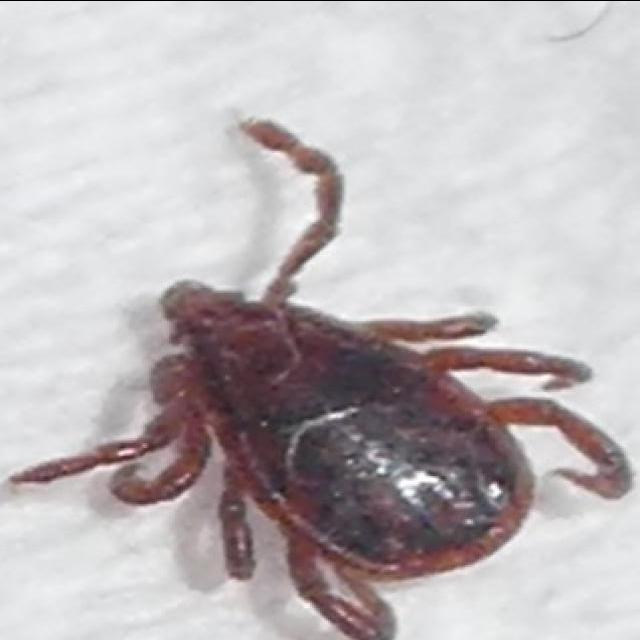Rhipicephalus Sanguineus-M: (14, 122, 632, 640)
